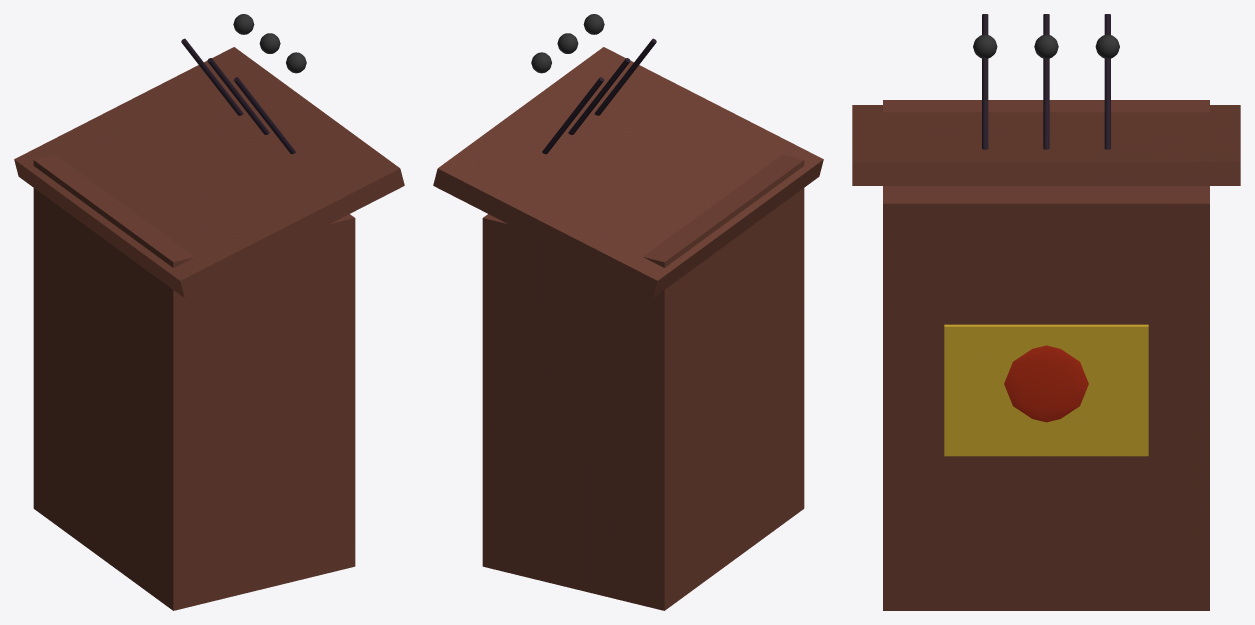
Rendered from mic-podium.glb.
3 views of the same model, side by side, from view 1: azimuth 30°, elevation 25°; view 2: azimuth 150°, elevation 25°; view 3: azimuth 270°, elevation 25° (orthographic). The views are drawn at different scales.
Visible parts, largest first — view 1: Cube; view 2: Cube; view 3: Cube.
Part boxes in pixels (x1,y1,x2,y2): Cube: (14, 14, 404, 610); Cube: (433, 14, 823, 610); Cube: (852, 14, 1240, 610).
Bounding box in the file's own units: 0.4847 × 1 × 0.6209.
Materials: 1 (1 with a texture image).
